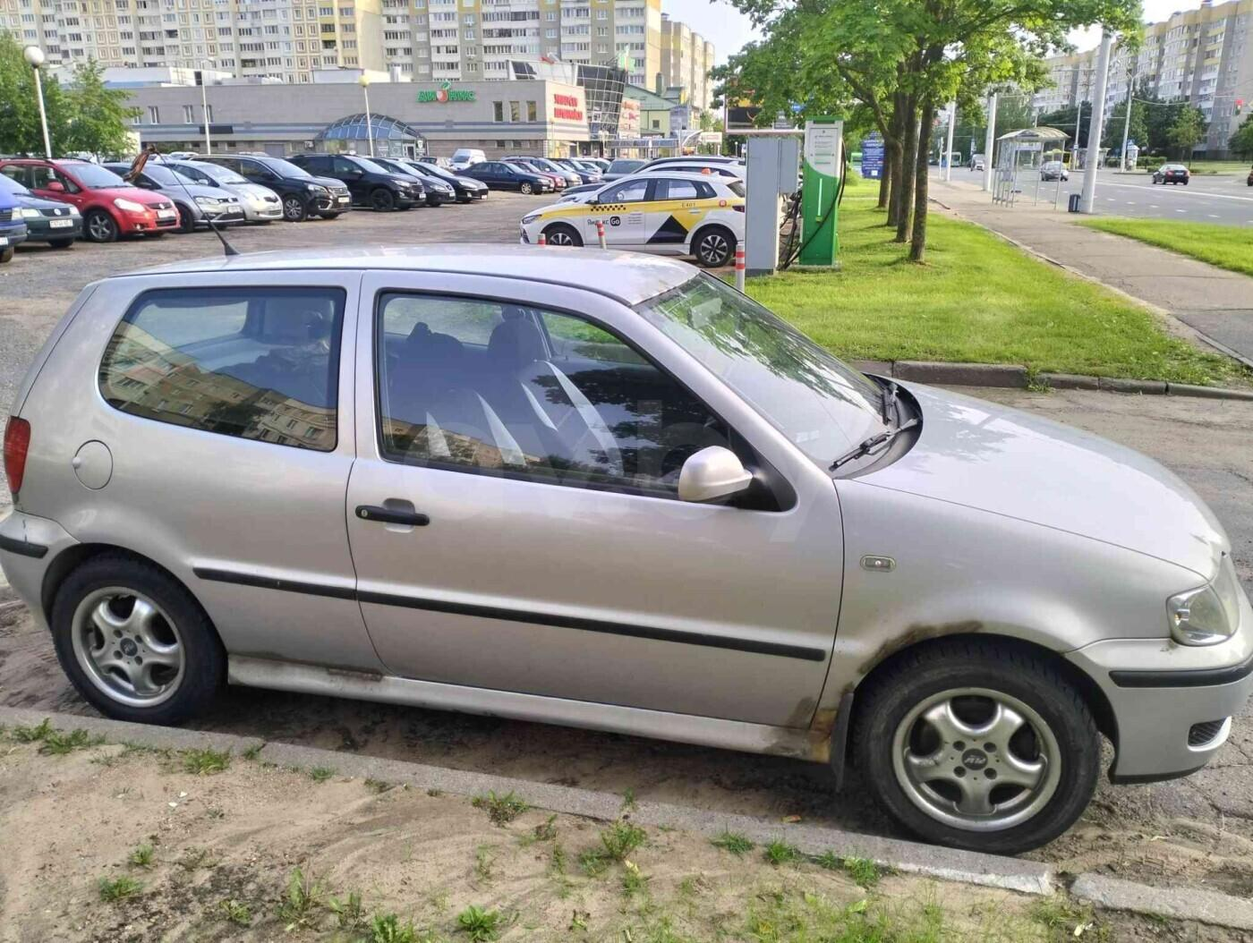Polo_2000-2002: (0, 246, 1253, 837)
